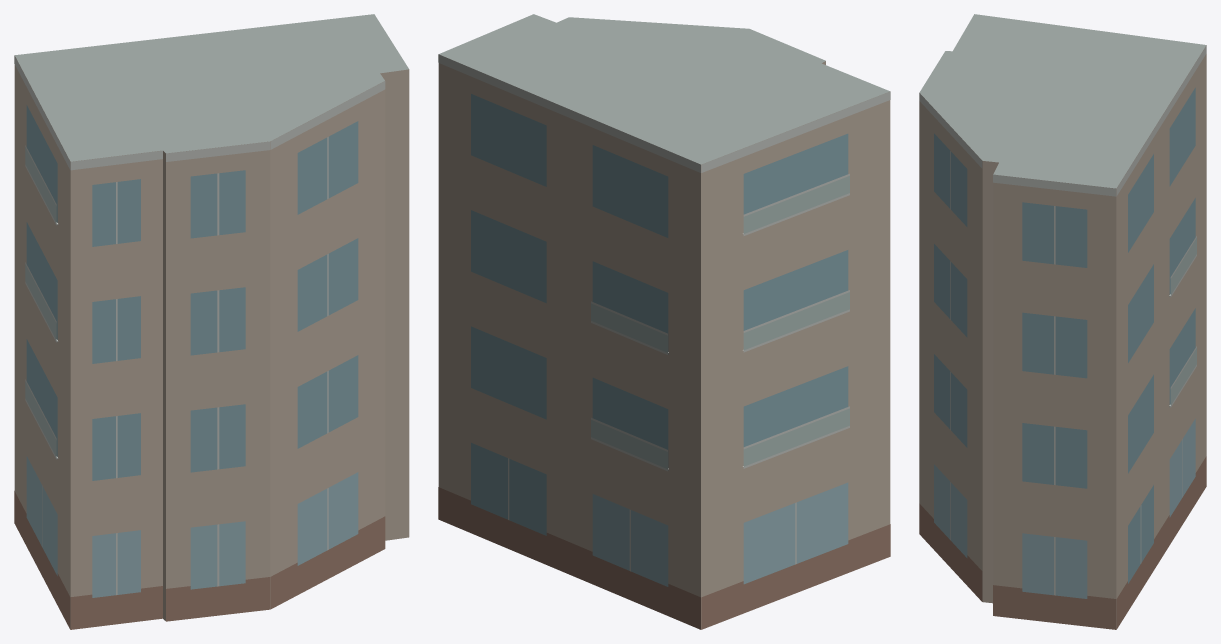
The model's file is survey-upis-32943553.glb.
3 renders of one model, left to right at view 1: azimuth 30°, elevation 25°; view 2: azimuth 150°, elevation 25°; view 3: azimuth 270°, elevation 25°, orthographic. The views are drawn at different scales.
Visible parts, largest first — view 1: survey-upis-32943553.tmp; view 2: survey-upis-32943553.tmp; view 3: survey-upis-32943553.tmp.
Part boxes in pixels (bbox=[...]): survey-upis-32943553.tmp: bbox=[14, 14, 409, 629]; survey-upis-32943553.tmp: bbox=[438, 14, 890, 629]; survey-upis-32943553.tmp: bbox=[919, 14, 1206, 629].
Size of the model in its own units: 11.2 by 13.2 by 7.8.
